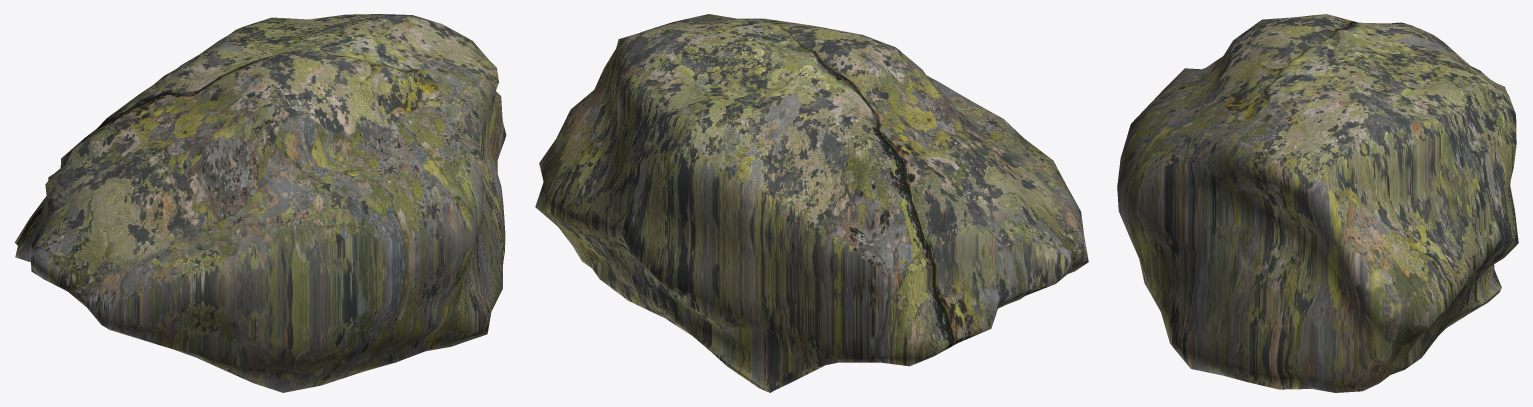
The model's file is boulder_b_lod0.gltf.
3 renders of one model, left to right at view 1: azimuth 30°, elevation 25°; view 2: azimuth 150°, elevation 25°; view 3: azimuth 270°, elevation 25°, orthographic. The views are drawn at different scales.
Visible parts, largest first — view 1: boulder_b_LOD0; view 2: boulder_b_LOD0; view 3: boulder_b_LOD0.
Part boxes in pixels (bbox=[...]): boulder_b_LOD0: bbox=[14, 14, 506, 392]; boulder_b_LOD0: bbox=[535, 14, 1088, 392]; boulder_b_LOD0: bbox=[1117, 14, 1518, 392].
Bounding box in the file's own units: 1.86 × 1 × 1.26.
1 material, 1 textured.
